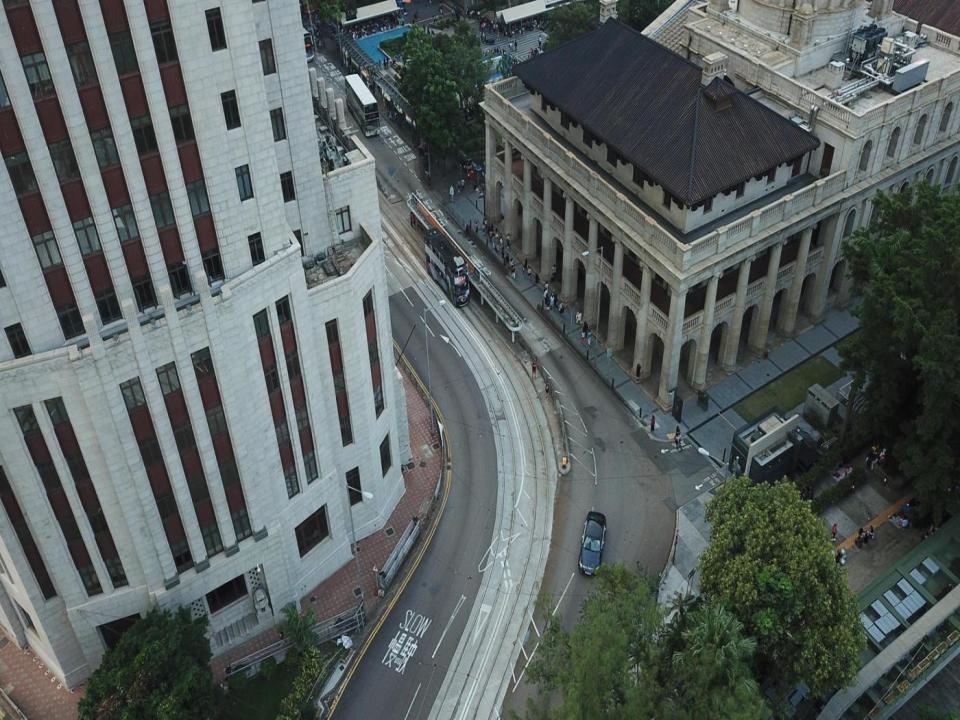bus: (424, 228, 470, 306), (344, 71, 380, 138)
car: (577, 509, 607, 574)
